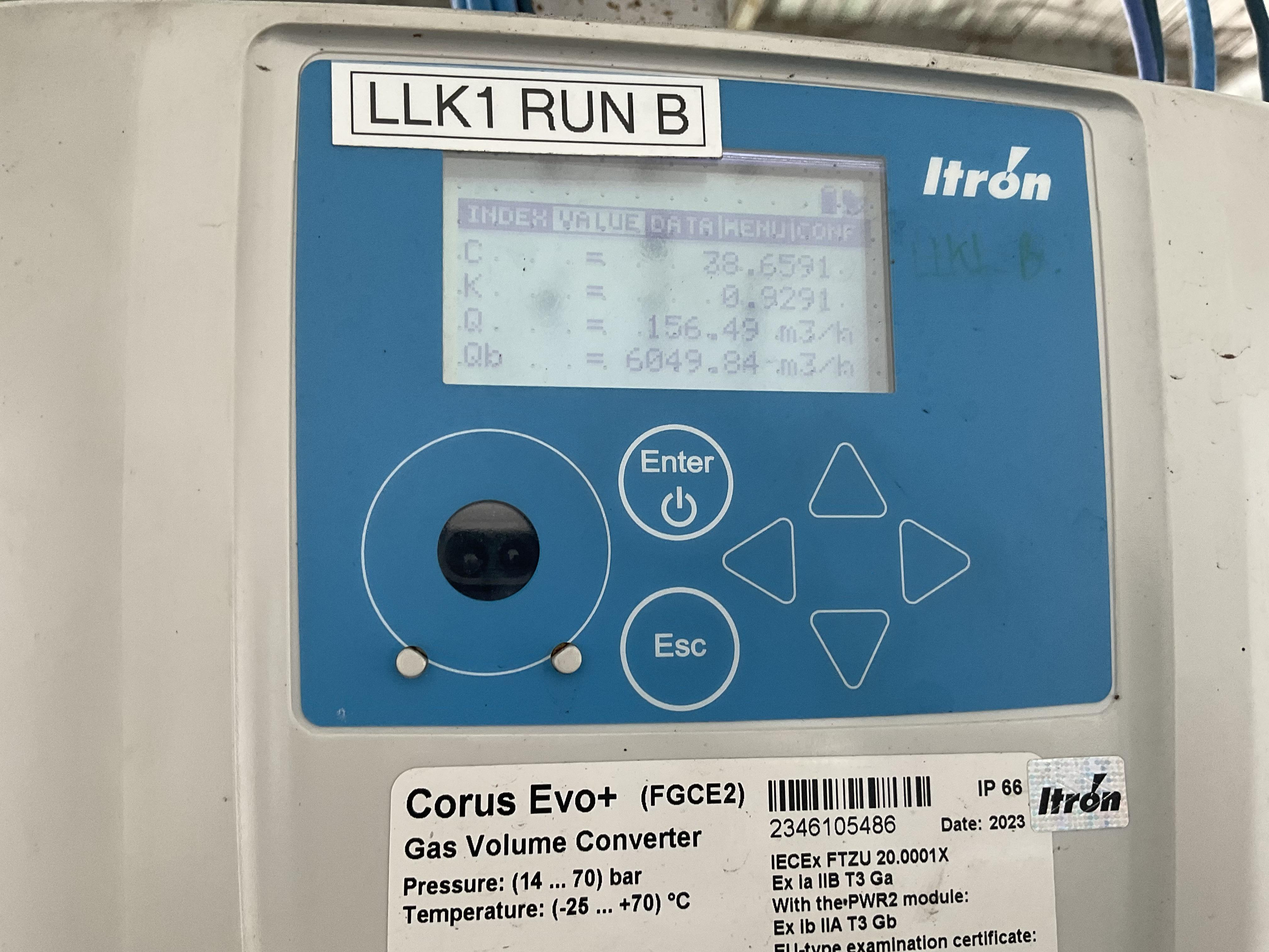digital_screen: (437, 136, 900, 393)
